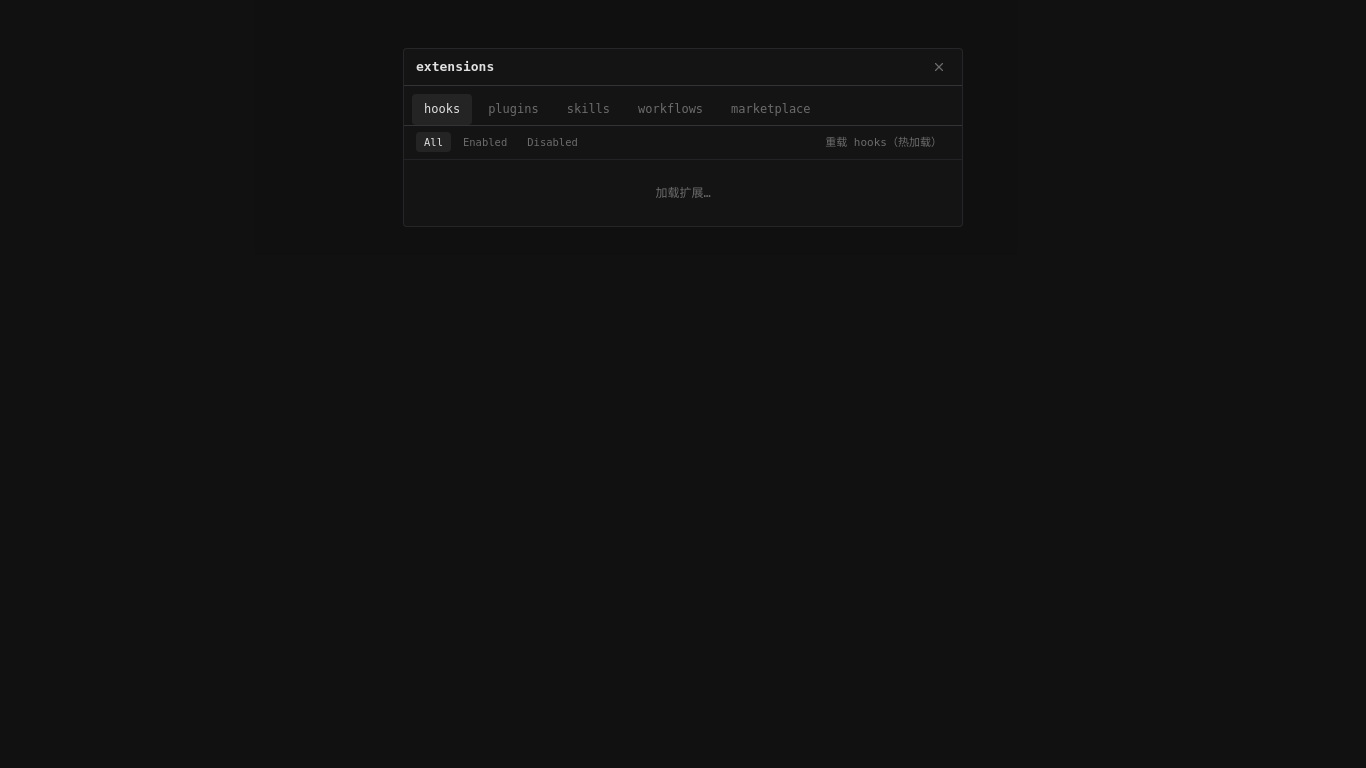
it: ExtensionsModal › skill 启停失败 → 行内错误
The width and height of the screenshot is (1366, 768).
Click the button "skills".
click(588, 109)  # box [555,94,622,125]
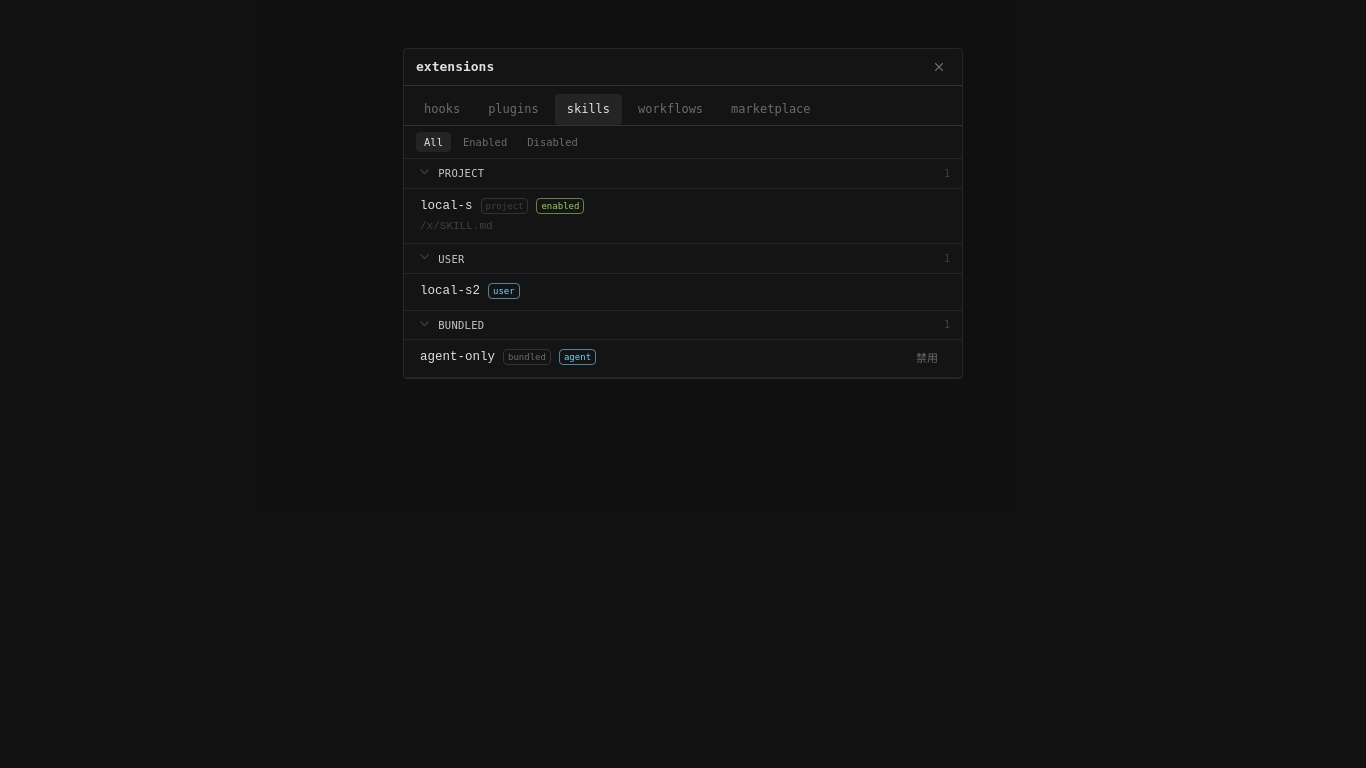
Click the button "禁用".
click(927, 359)  # box [908,348,946,369]
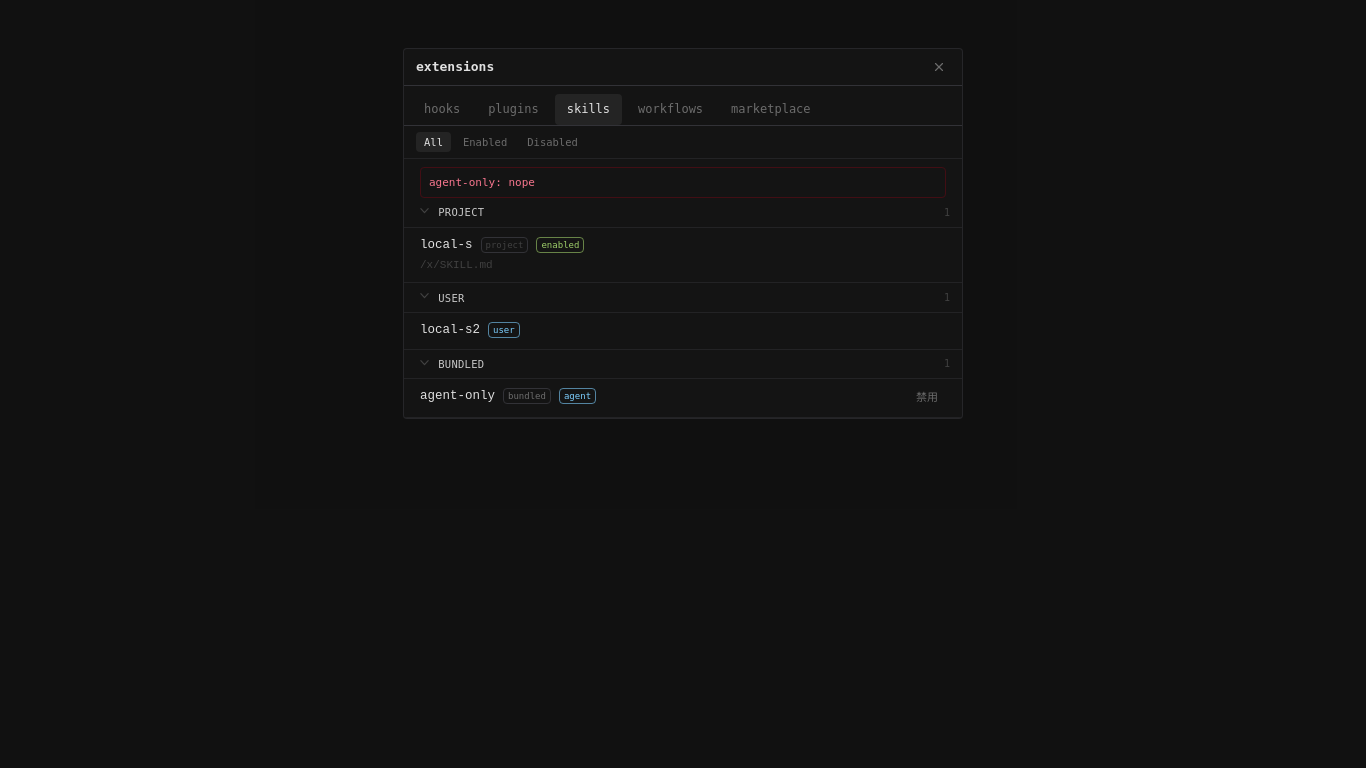
Expected: the text "agent-only: nope" is shown, [420,167,946,198]
